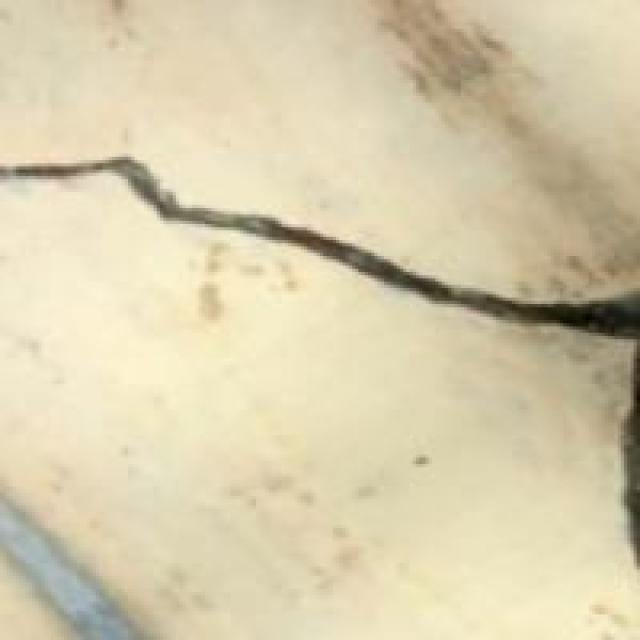crack: (0, 118, 637, 381)
